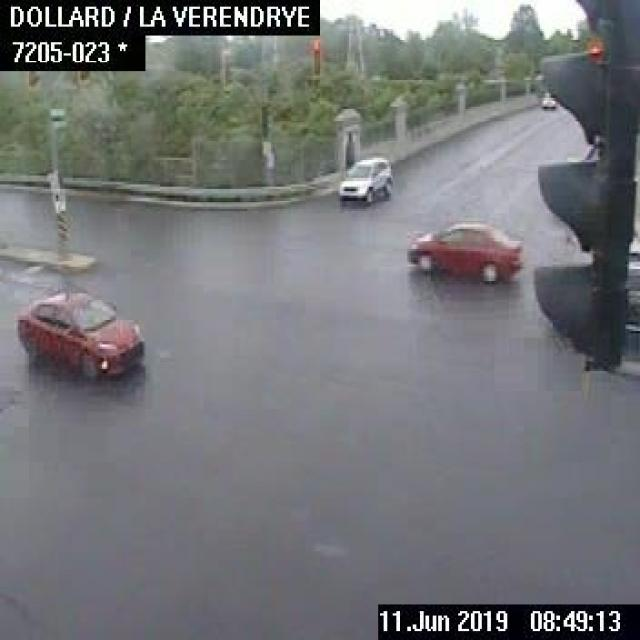vehicle: (15, 286, 146, 378), (404, 220, 524, 282), (334, 156, 391, 200), (538, 89, 556, 109)
